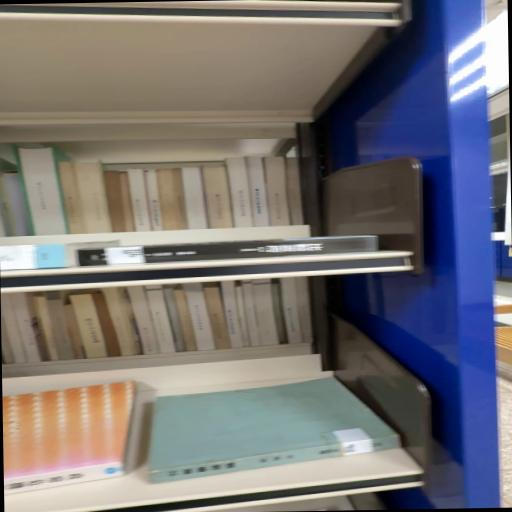flat: (149, 378, 402, 484), (79, 237, 379, 267)
